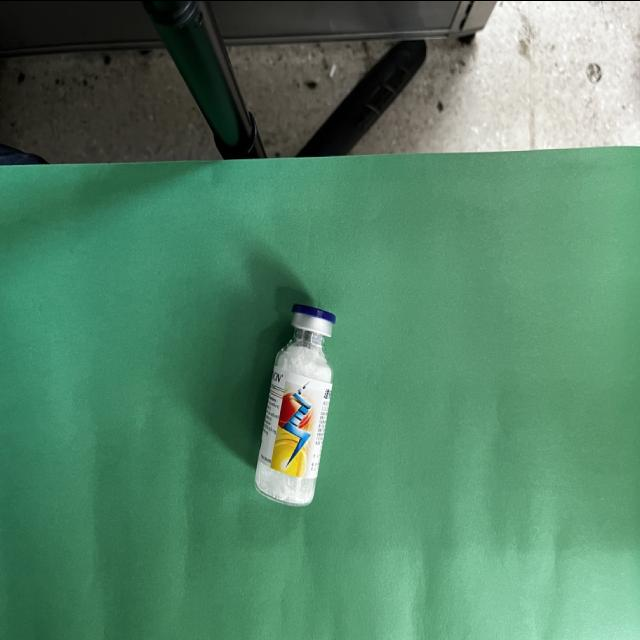Vials: (254, 303, 336, 505)
